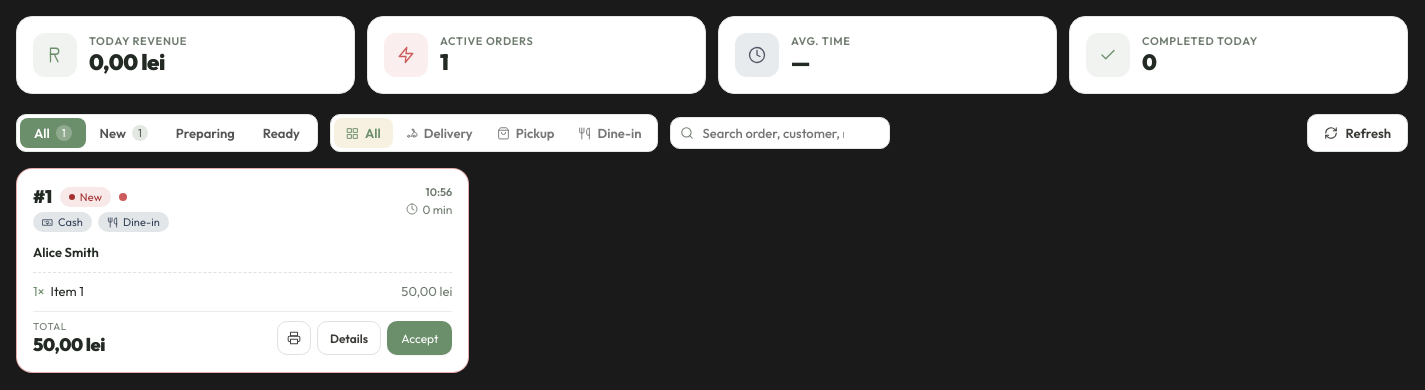
Scenario: OrdersScreen › ORD-03: client-side search by order ID and customer name › search with no matches shows empty state with search-no-results copy
Type "zzznomatch999" into the search field with placeholder "Search order, customer, number…".
click(780, 133); type("zzznomatch999")  # box [670,117,890,149]
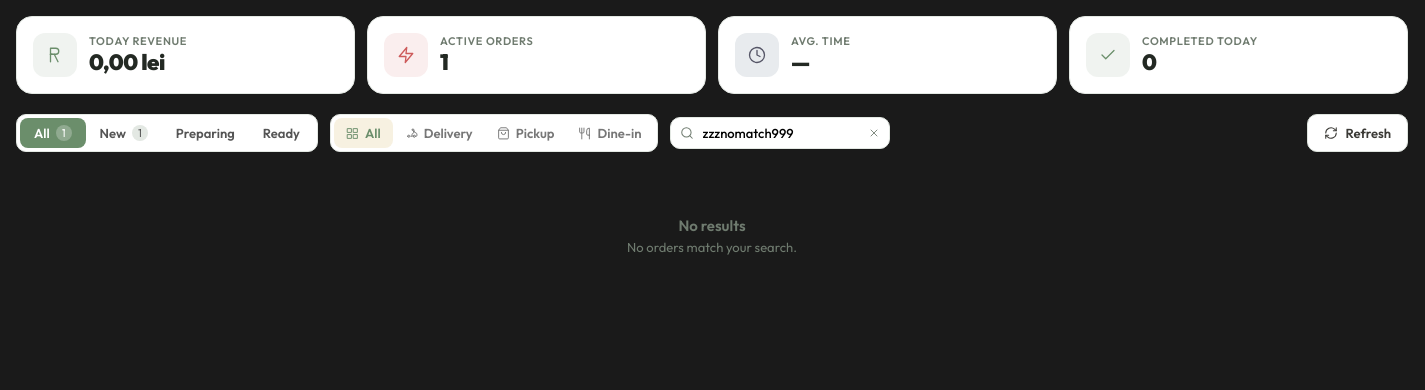
Check: the text "No results" is shown, box [678,216,746,235]
